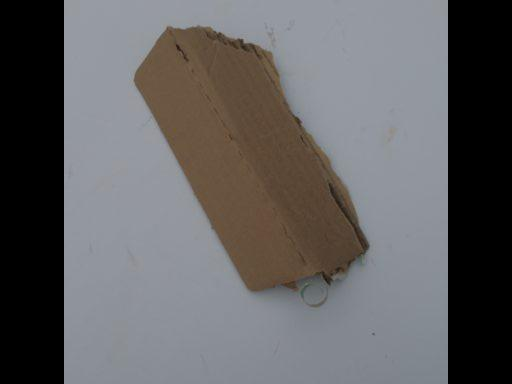cardboard: (133, 22, 370, 311)
